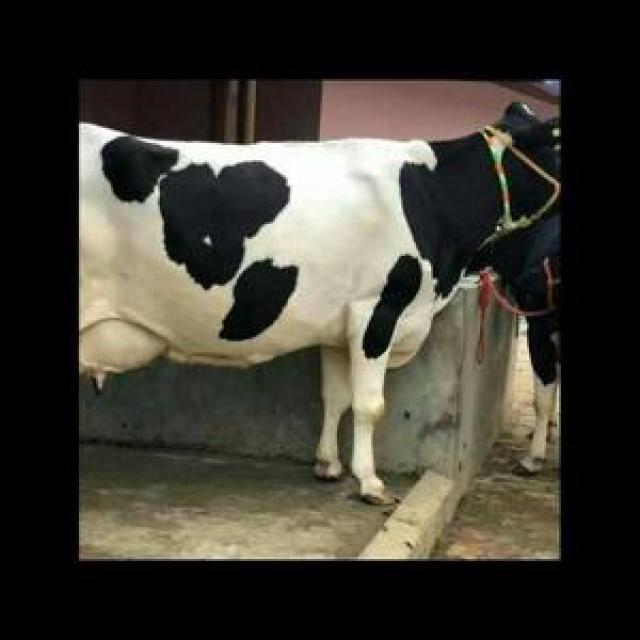cow: (81, 104, 560, 501)
